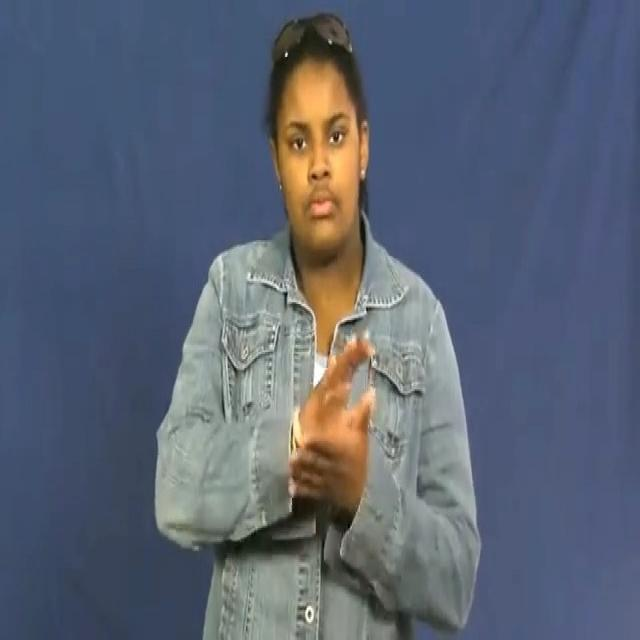tissues: (288, 330, 390, 512)
